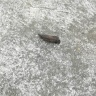Dog: (37, 32, 61, 45)
